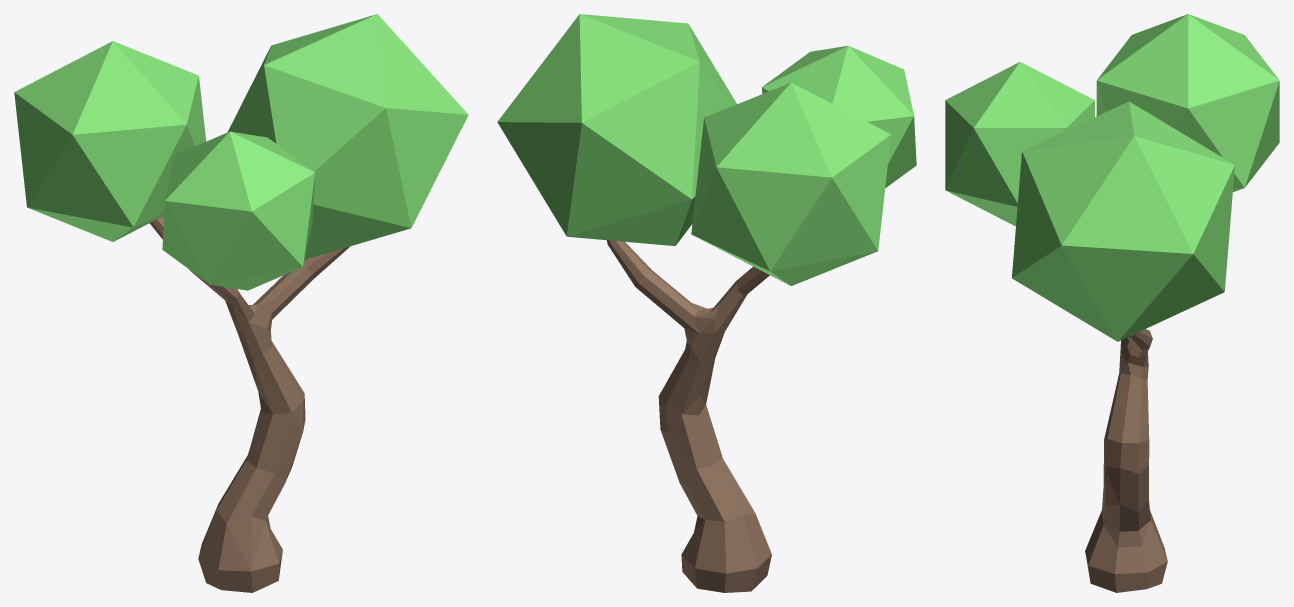
File: Albero 3 Metà.fbx
3 renders of one model, left to right at view 1: azimuth 30°, elevation 25°; view 2: azimuth 150°, elevation 25°; view 3: azimuth 270°, elevation 25°, orthographic. The views are drawn at different scales.
Visible parts, largest first — view 1: Icosphere.013; view 2: Icosphere.013; view 3: Icosphere.013.
Part boxes in pixels (x1=…): Icosphere.013: x1=14, y1=14, x2=468, y2=592; Icosphere.013: x1=497, y1=14, x2=916, y2=592; Icosphere.013: x1=945, y1=14, x2=1279, y2=592.
Bounding box in the file's own units: 61.31 × 84.75 × 48.65.
